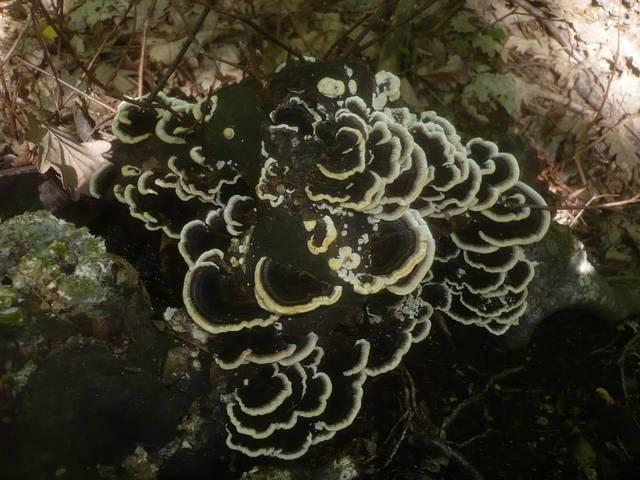poisonous_mushroom: (97, 54, 553, 462)
